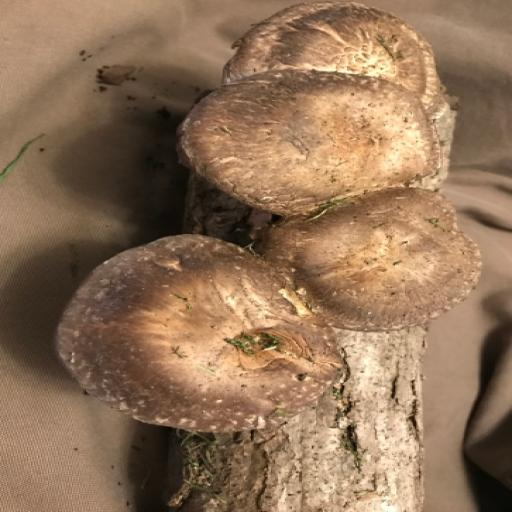Shiitake Mushroom: (20, 0, 512, 512)
